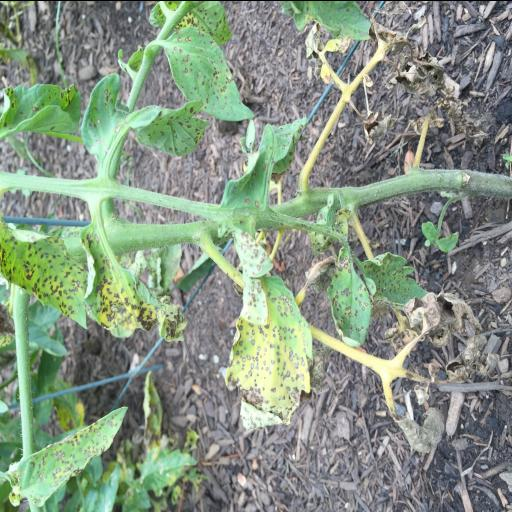Septoria: (226, 227, 318, 432), (84, 214, 190, 344), (4, 196, 90, 334), (82, 72, 212, 162), (14, 404, 127, 506), (162, 17, 256, 123), (216, 118, 310, 216), (360, 227, 430, 313), (0, 78, 82, 146), (325, 246, 375, 348), (174, 0, 233, 43)
